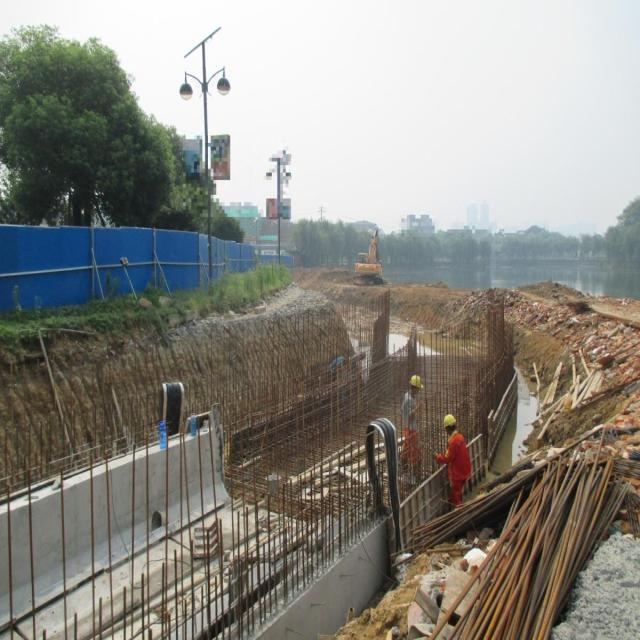excavator: (347, 220, 392, 291)
